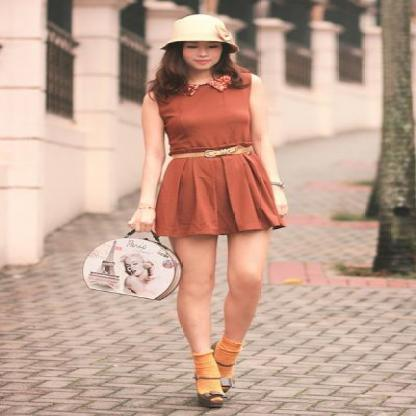bag: (83, 238, 179, 298)
dress: (150, 75, 284, 240)
hat: (175, 14, 231, 41)
shoe: (186, 346, 237, 414)
